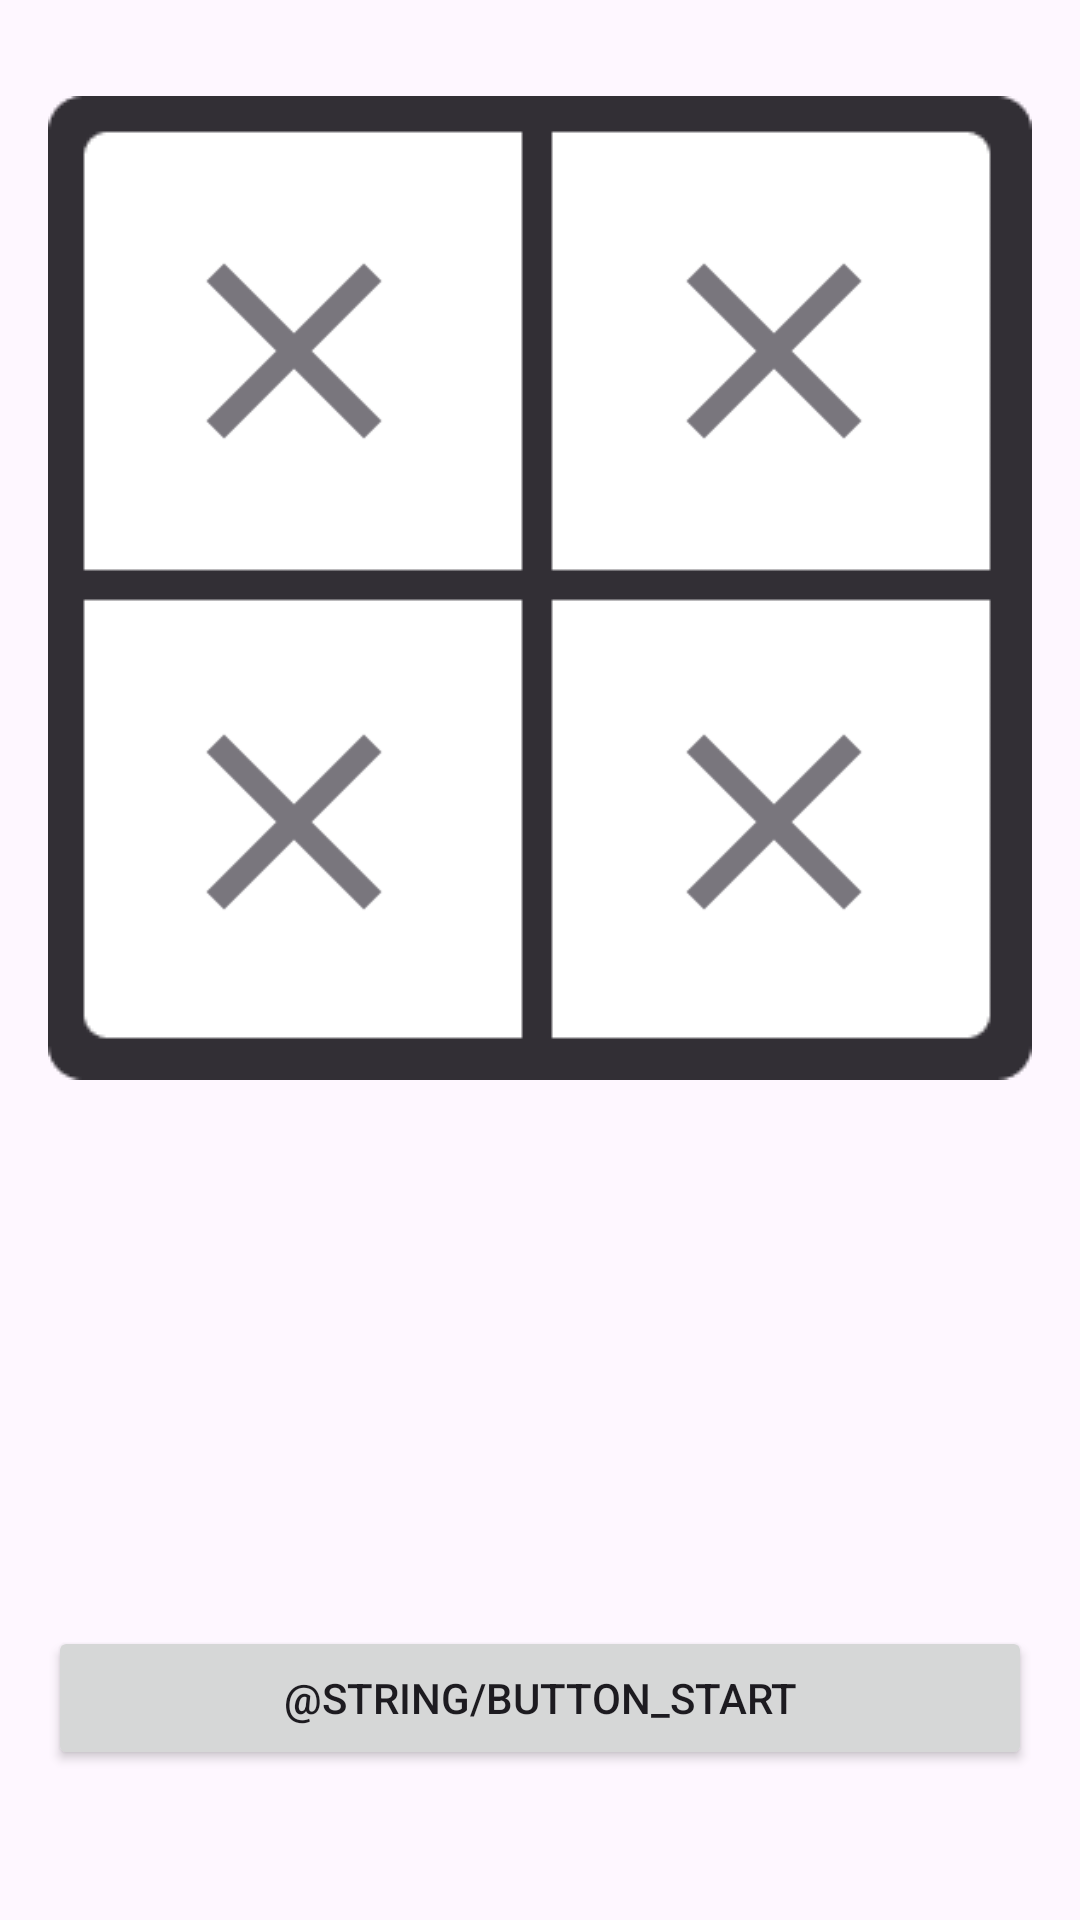

Icons on this 1080 × 1920 Android screen, each with its box as (x1, y1, x2, y2):
cross: (206, 263, 382, 439), (686, 263, 862, 439), (206, 734, 382, 910), (686, 734, 862, 910)
